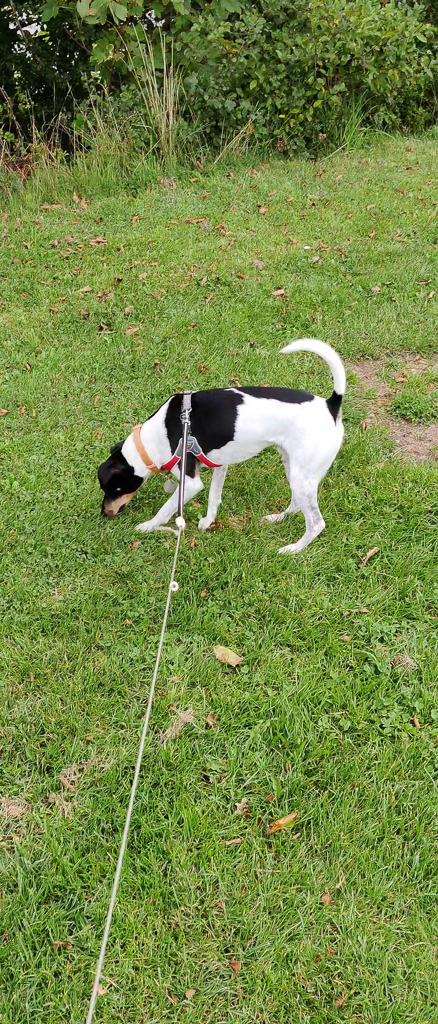Dog: (86, 330, 366, 562)
